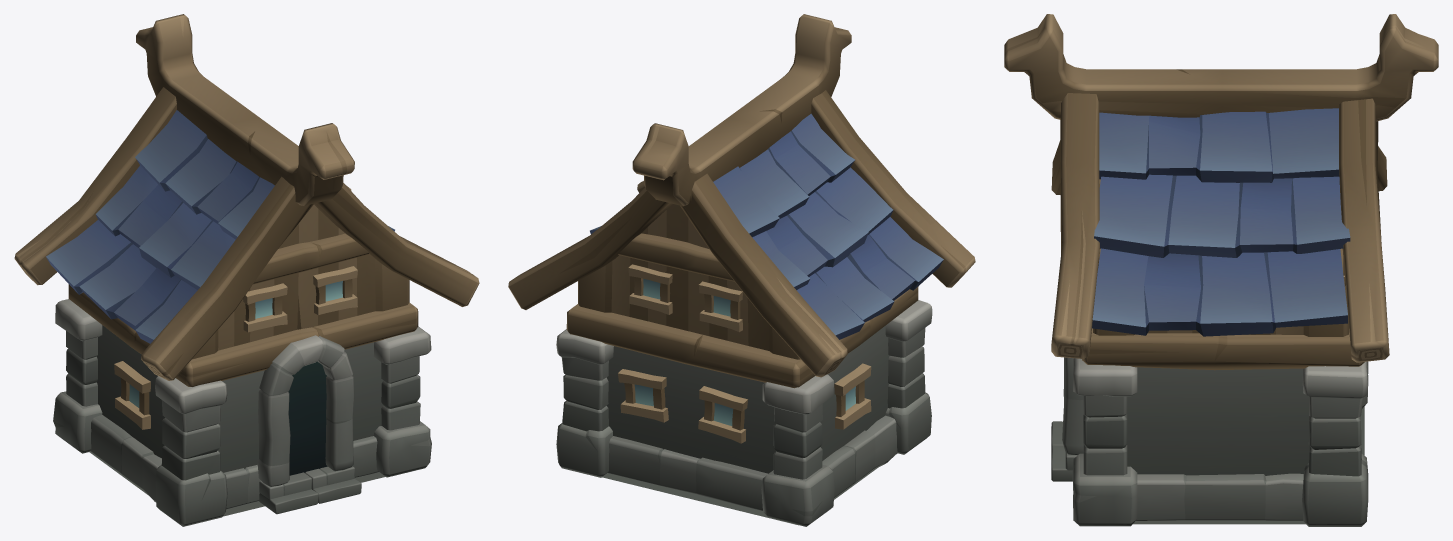
File: house_big.fbx
3 renders of one model, left to right at view 1: azimuth 30°, elevation 25°; view 2: azimuth 150°, elevation 25°; view 3: azimuth 270°, elevation 25°, orthographic. The views are drawn at different scales.
Visible parts, largest first — view 1: house_big; view 2: house_big; view 3: house_big.
Boxes of the visible parts, x1,y1,x2,y2 form: house_big: [14, 14, 479, 526]; house_big: [508, 14, 975, 526]; house_big: [1004, 14, 1438, 526].
Bounding box in the file's own units: 762 × 847 × 758.
